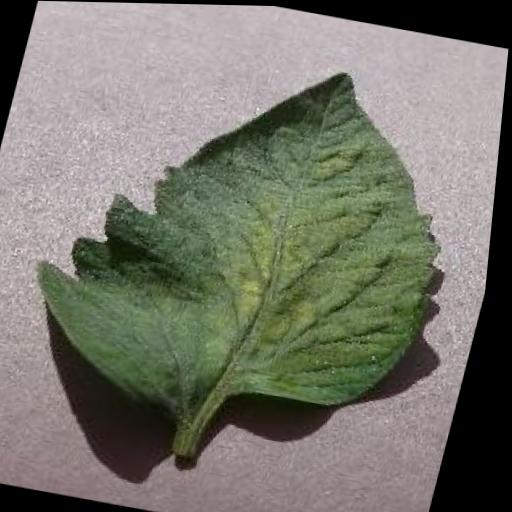Spider Mites: (14, 22, 487, 445)
